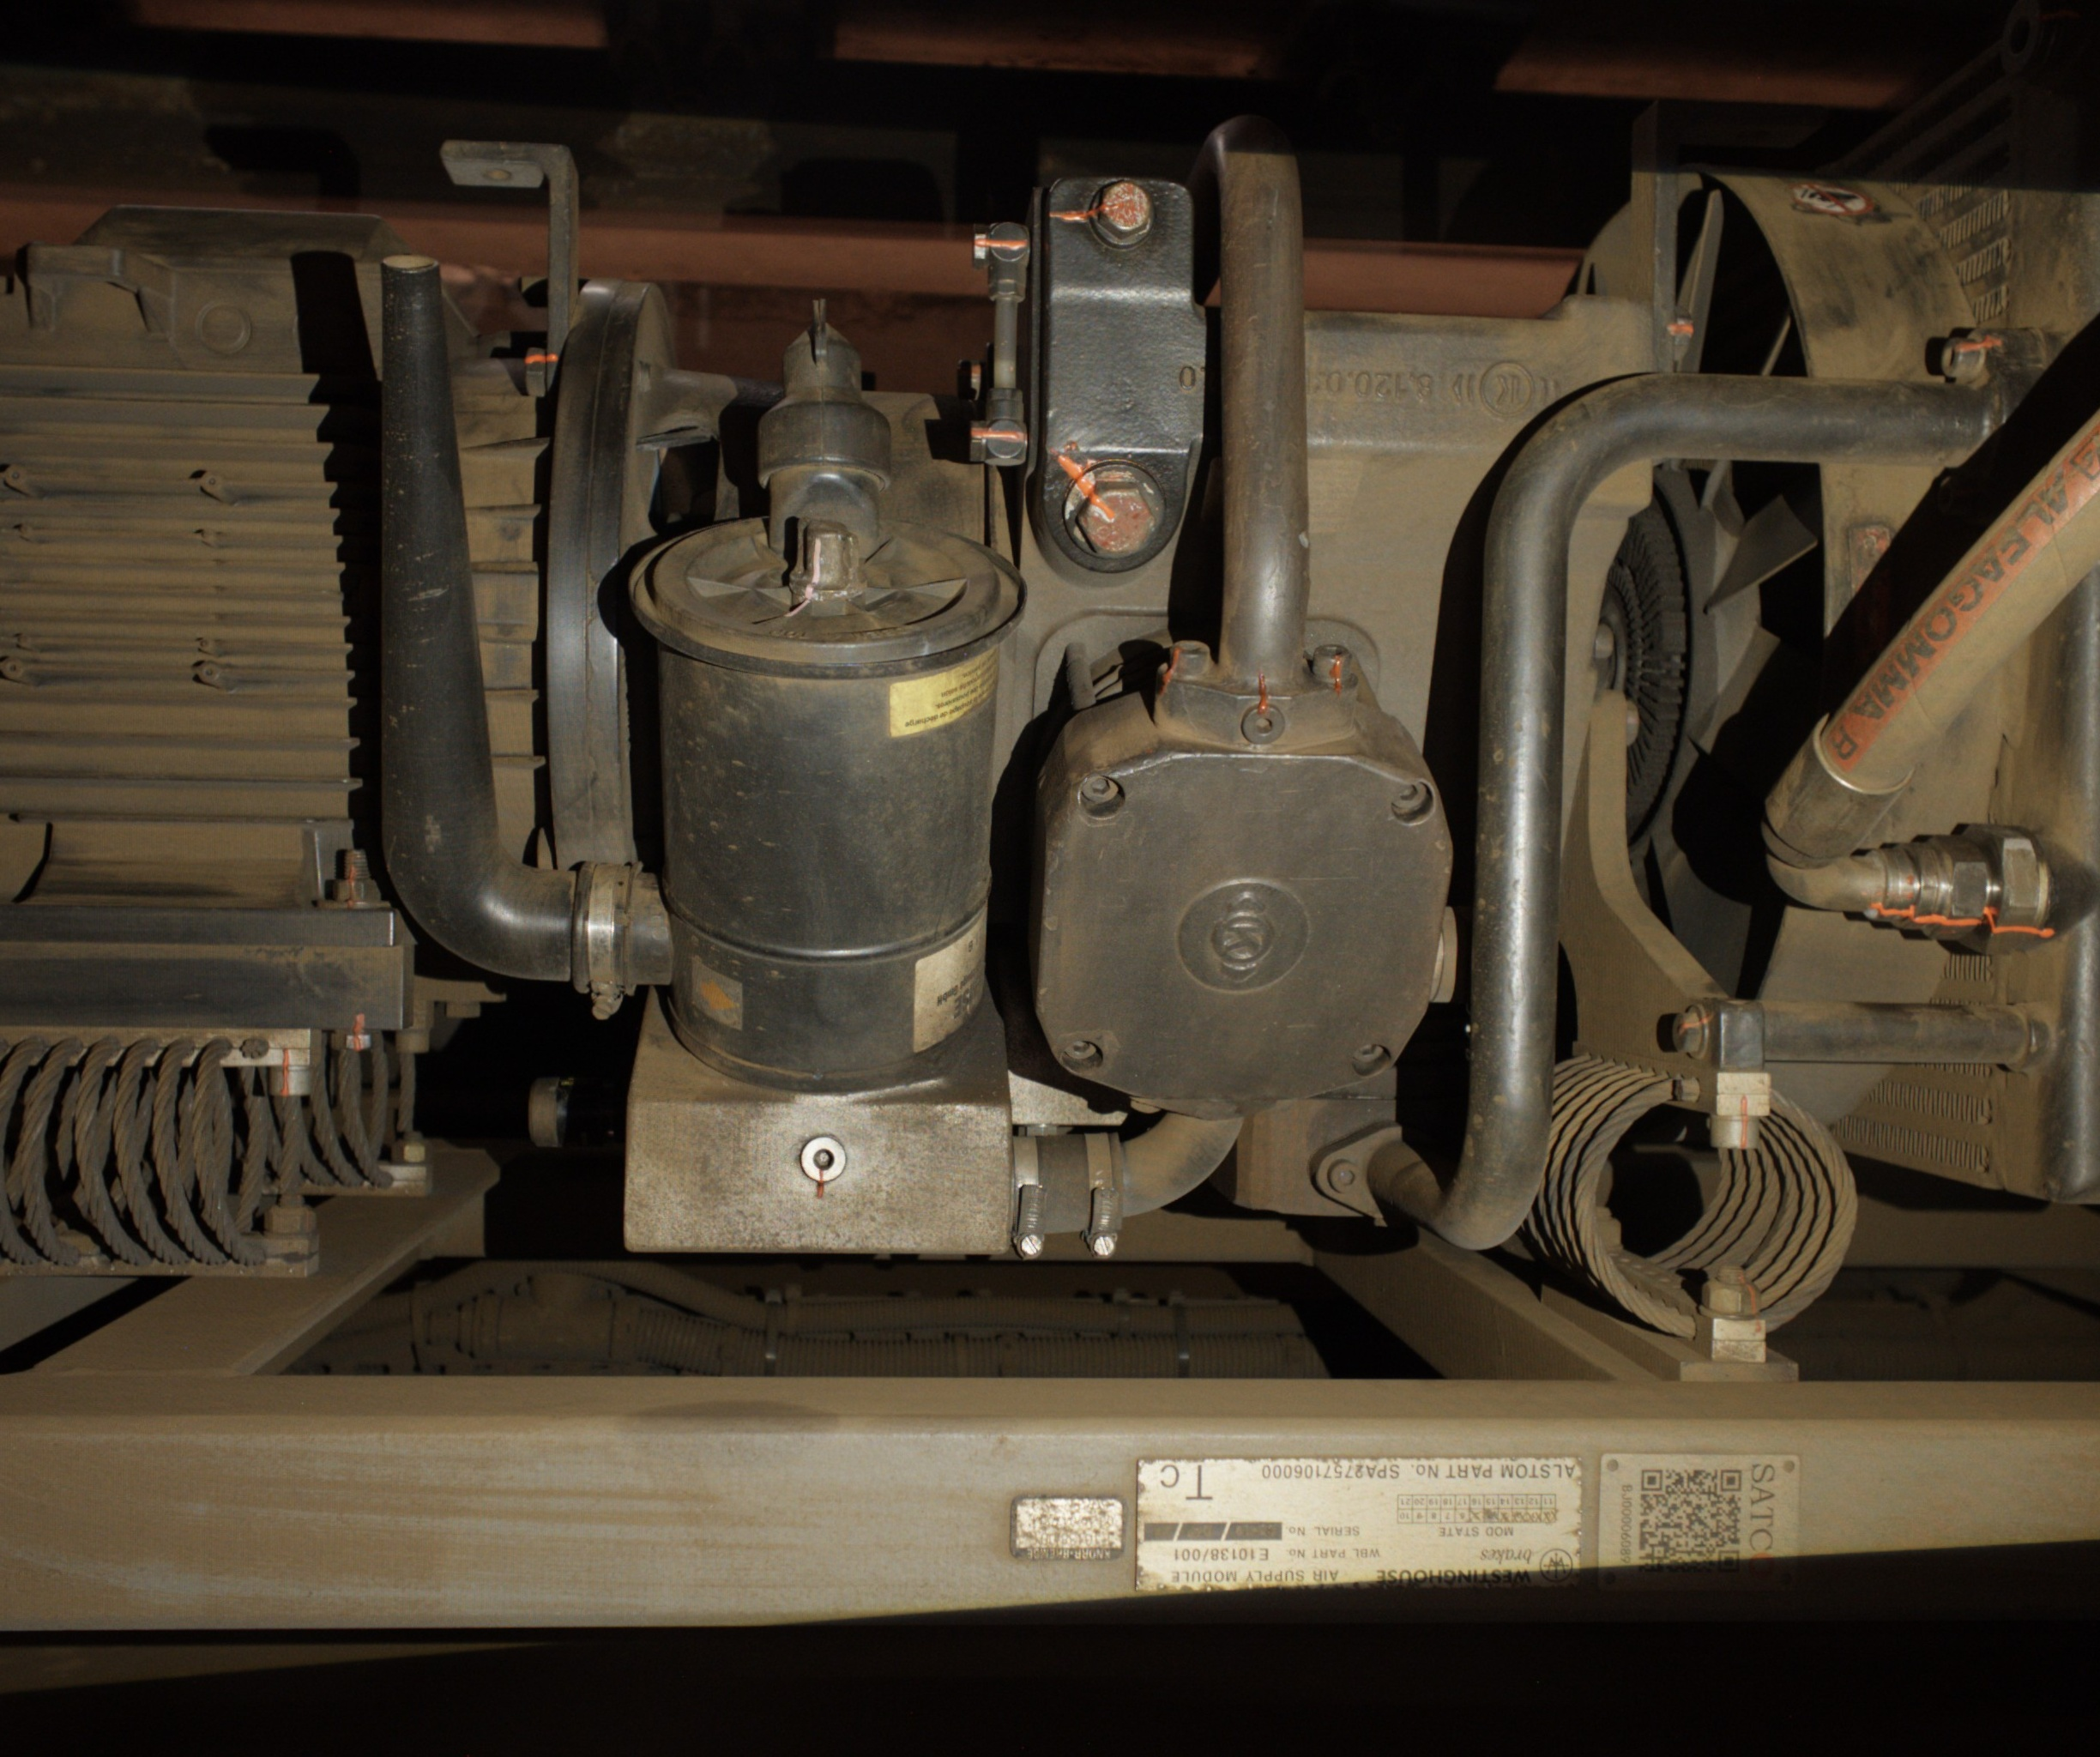ls01: (1085, 174, 1156, 253), (972, 215, 1034, 272), (968, 417, 1027, 464), (1238, 694, 1287, 750), (1305, 642, 1357, 693), (1167, 633, 1214, 686), (1667, 305, 1694, 359)
lsc: (1706, 991, 1774, 1155), (1695, 1260, 1772, 1373)
lsdt: (1859, 815, 2056, 961)
lsp: (1060, 459, 1169, 562)
